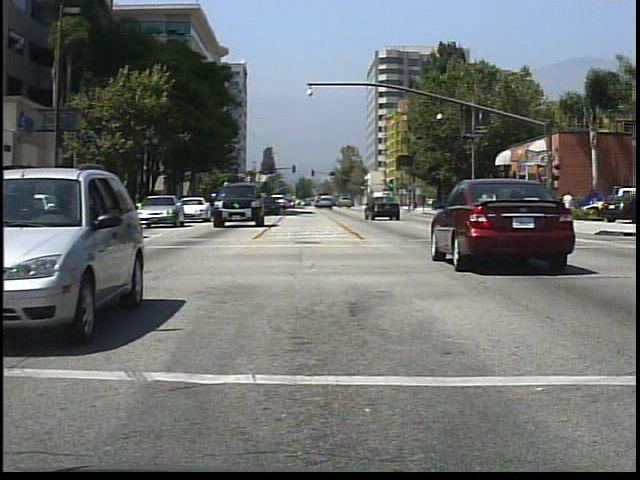person: (560, 188, 581, 233), (514, 190, 531, 227)
